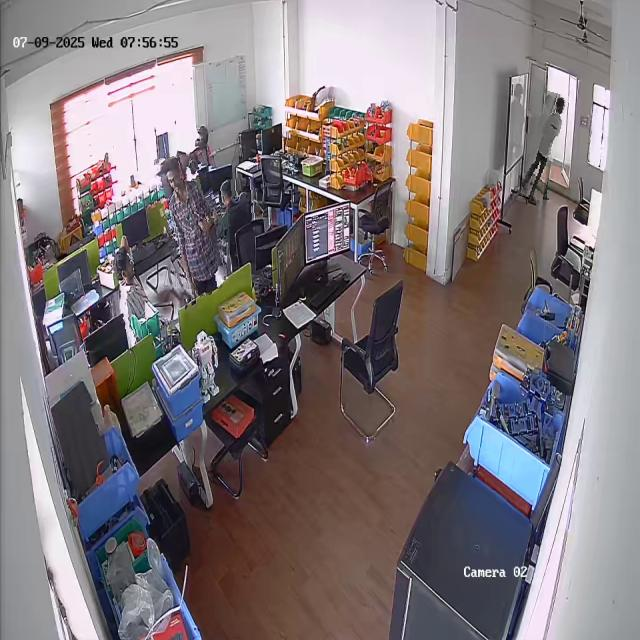person: (159, 152, 224, 299), (526, 92, 564, 200), (108, 247, 153, 329), (219, 178, 257, 225)
